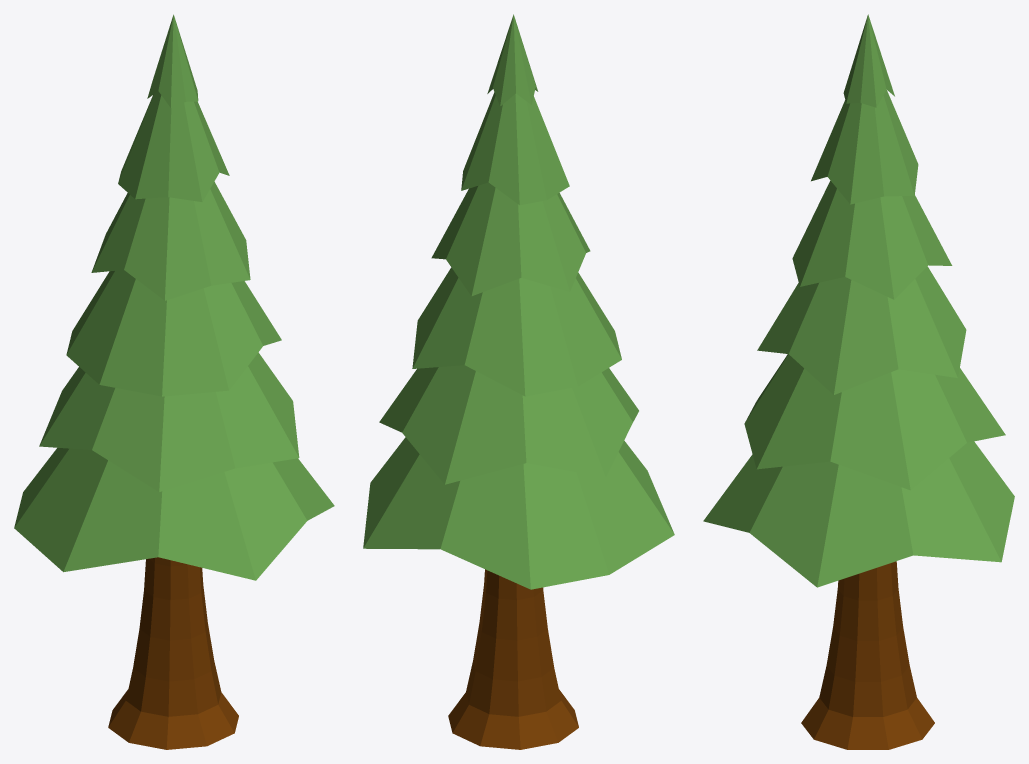
The model's file is Tree.fbx.
The picture shows the model from 3 angles, left to right: view 1: azimuth 30°, elevation 25°; view 2: azimuth 150°, elevation 25°; view 3: azimuth 270°, elevation 25°; orthographic projection.
Visible parts, largest first — view 1: Tree; view 2: Tree; view 3: Tree.
Part boxes in pixels (<box>): Tree: <box>14,14,334,749</box>; Tree: <box>363,14,674,749</box>; Tree: <box>703,14,1014,749</box>.
Size of the model in its own units: 287 by 715 by 285.
